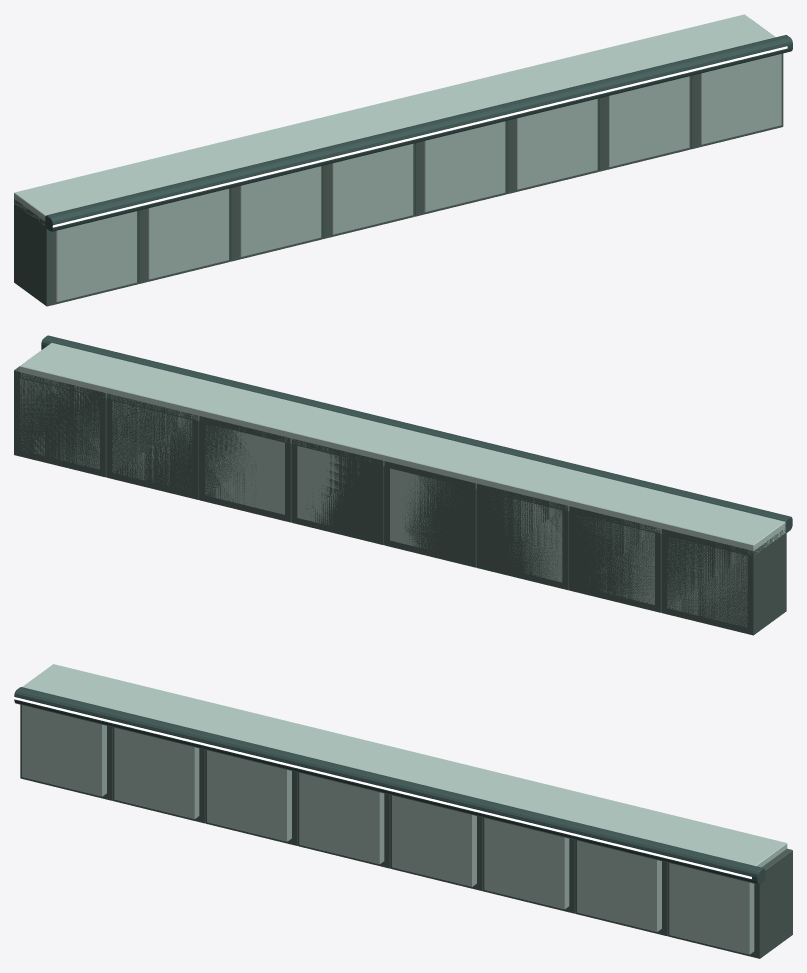
File: Terrain_TopRun8R.gltf
3 views of the same model, one above another, from view 1: azimuth 30°, elevation 25°; view 2: azimuth 150°, elevation 25°; view 3: azimuth 330°, elevation 25° (orthographic).
Parts seen in each view (by area): view 1: Terrain_TopRun8R_baked; view 2: Terrain_TopRun8R_baked; view 3: Terrain_TopRun8R_baked.
Part boxes in pixels (x1,y1,x2,y2): Terrain_TopRun8R_baked: (14,14,792,306); Terrain_TopRun8R_baked: (14,335,792,635); Terrain_TopRun8R_baked: (14,664,792,958).
Size of the model in its own units: 8.04 by 0.9495 by 0.74.
